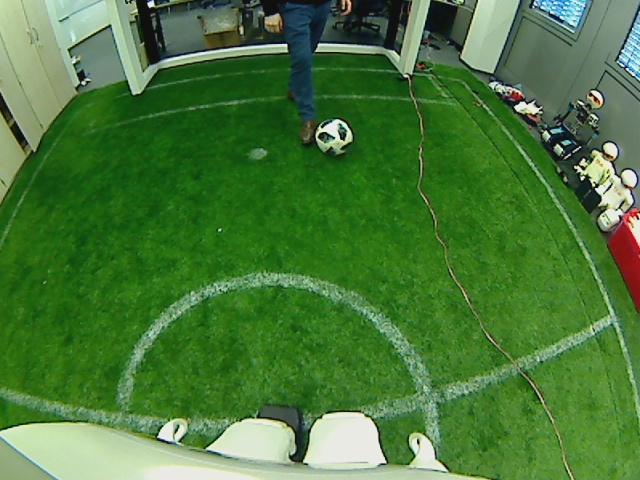ball: (314, 116, 354, 155)
